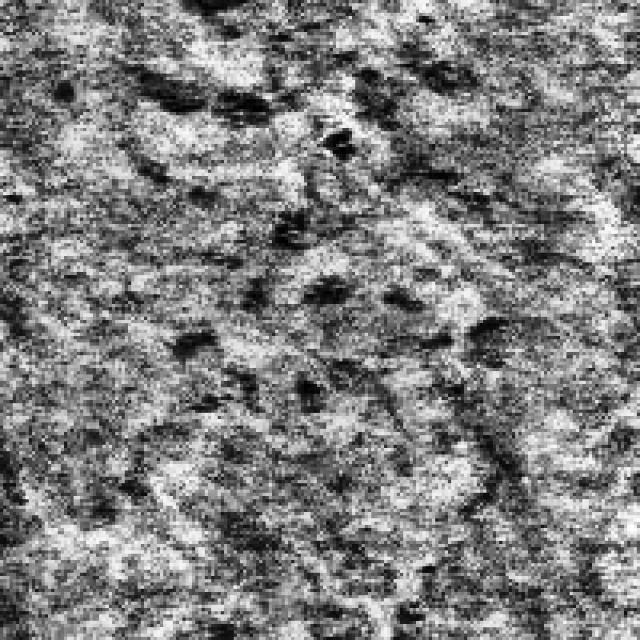Crazing: (134, 70, 374, 410)
